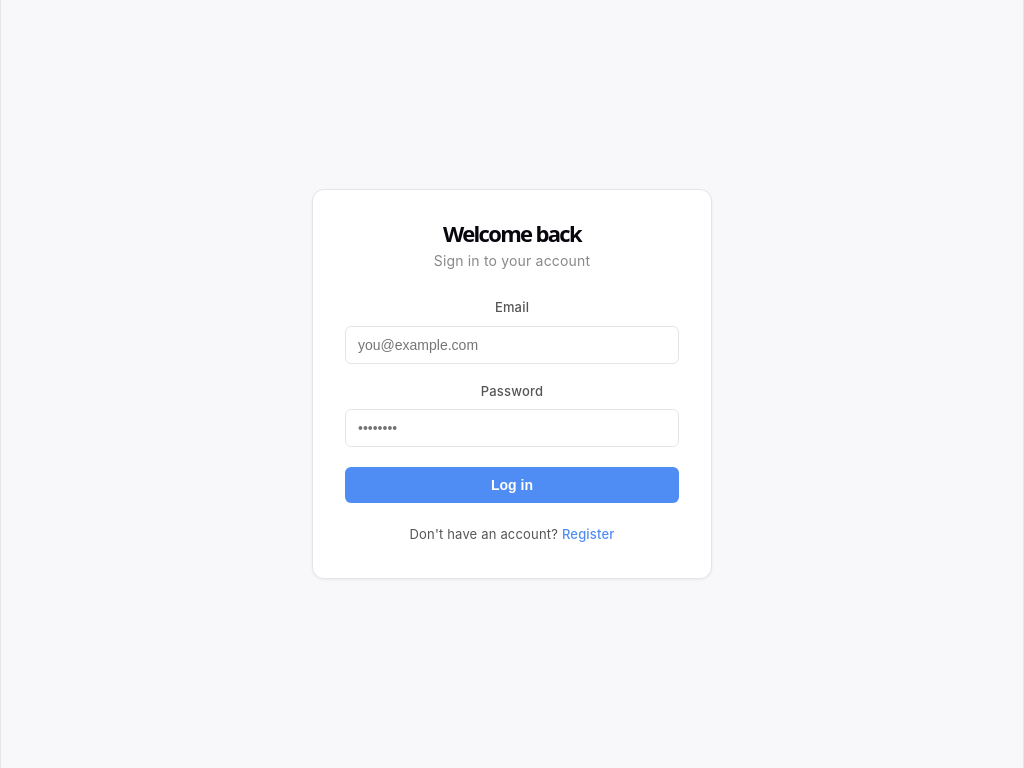
Test: LoginPage - Unit Tests › should show error for USER_ALREADY_LOGGED_IN_ANOTHER_BROWSER
This screenshot has width=1024, height=768.
Type "test@example.com" into the field labelled "Email" at (512, 345), box [345,326,679,364]
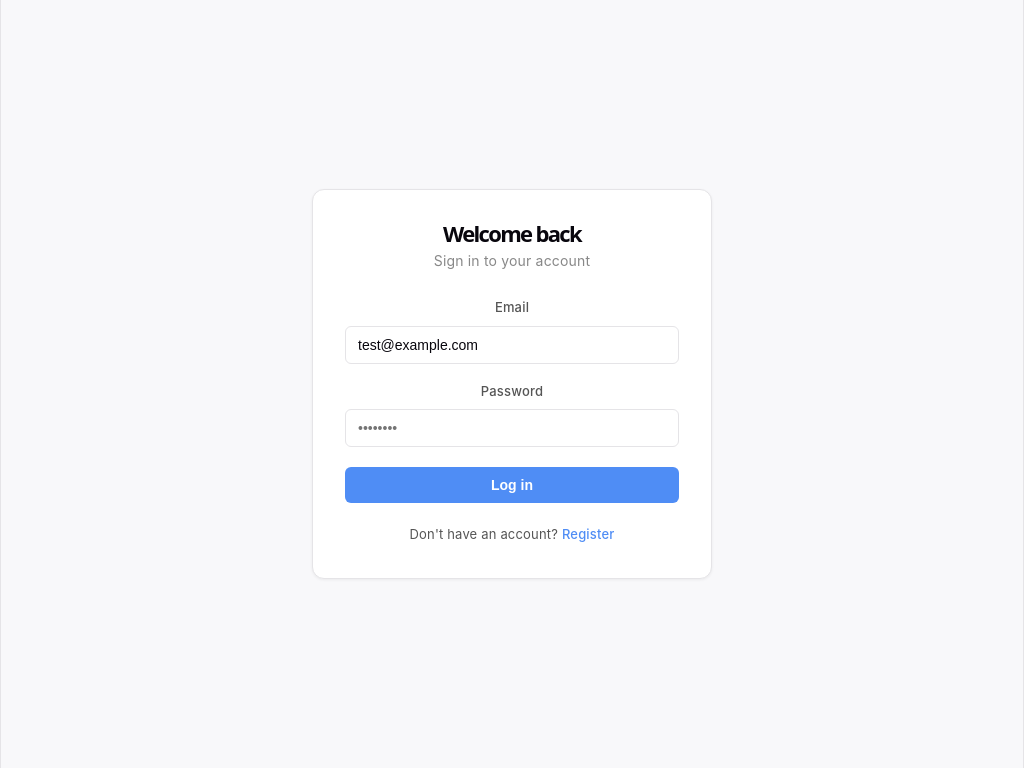
Type "password123" into the password field labelled "Password" at (512, 428), box [345,409,679,447]
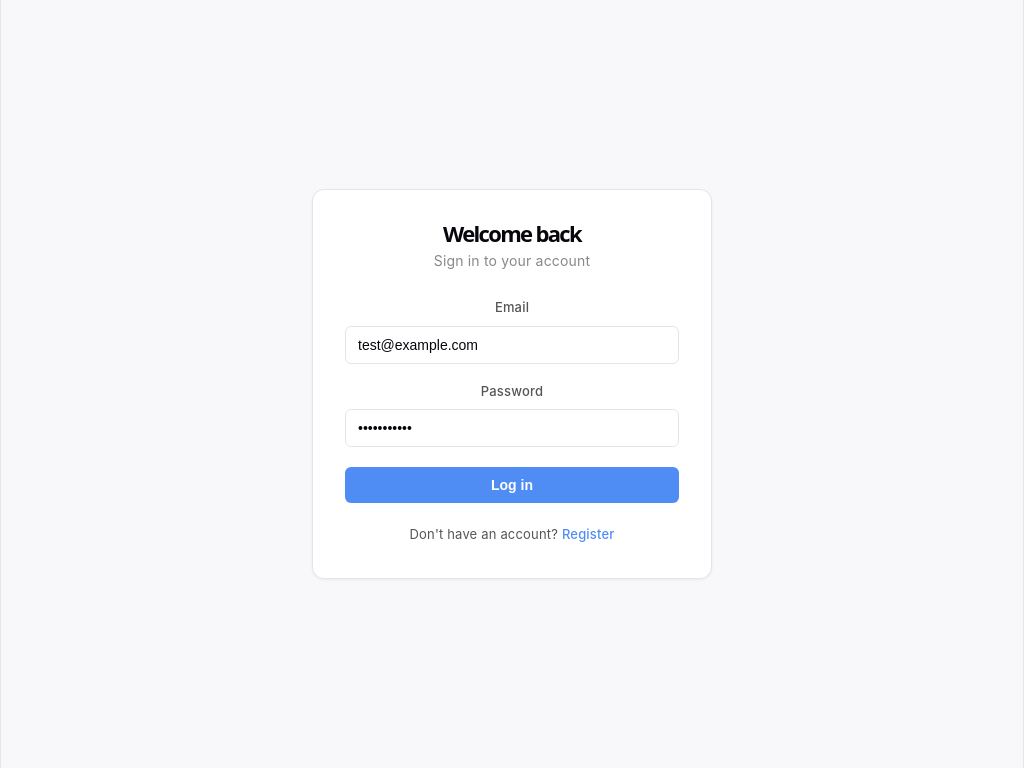
Click the button "Log in" at (512, 485), box [345,467,679,503]
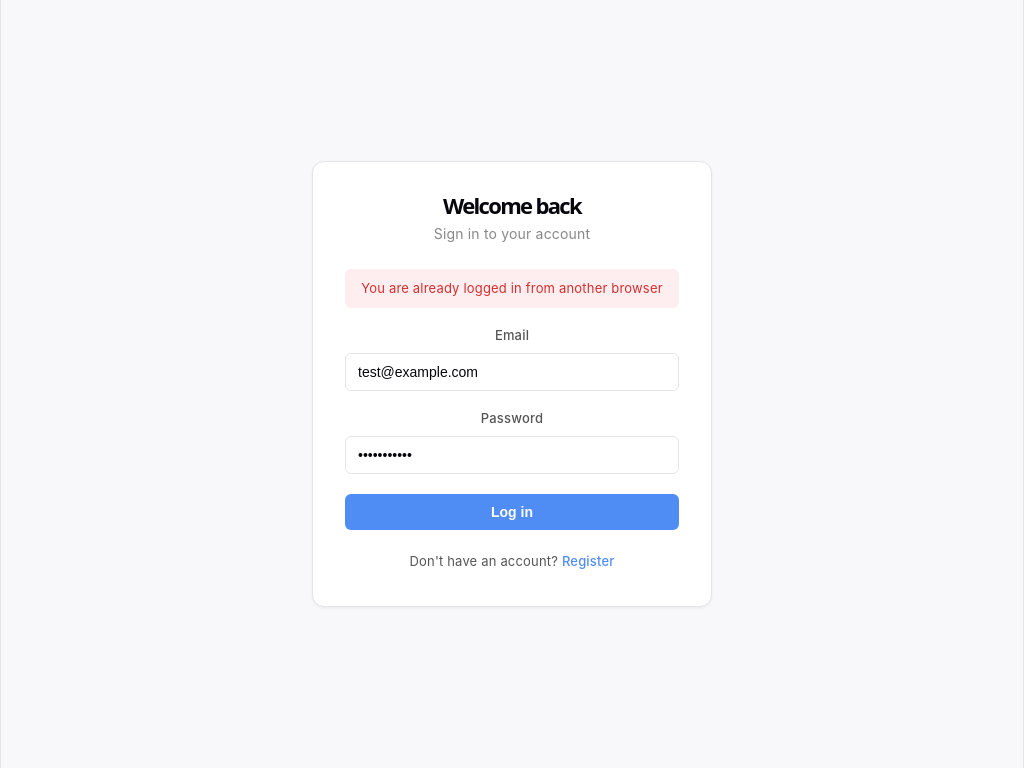
Check: the message reads "You are already logged in from another browser", box [361,280,663,296]
